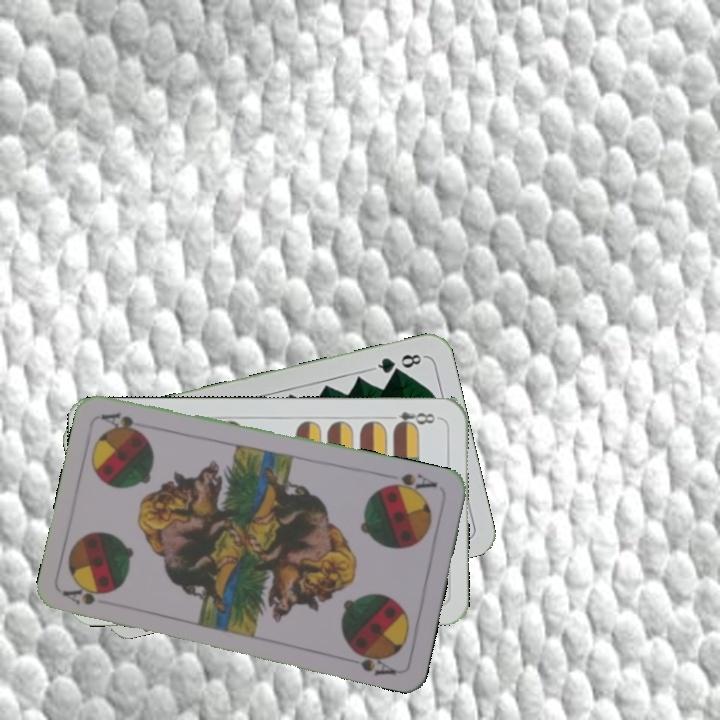E8: (383, 408, 438, 431)
G8: (369, 350, 427, 377)
SA: (381, 469, 440, 498), (60, 584, 108, 608)
